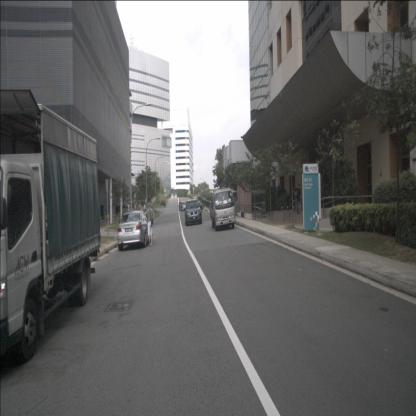human-pedestrian-adult: (140, 202, 155, 246), (293, 184, 303, 216)
vehicle-car: (118, 210, 151, 251), (185, 199, 202, 226), (178, 201, 188, 211)
vehicle-truck: (0, 88, 101, 363), (209, 188, 236, 230)
